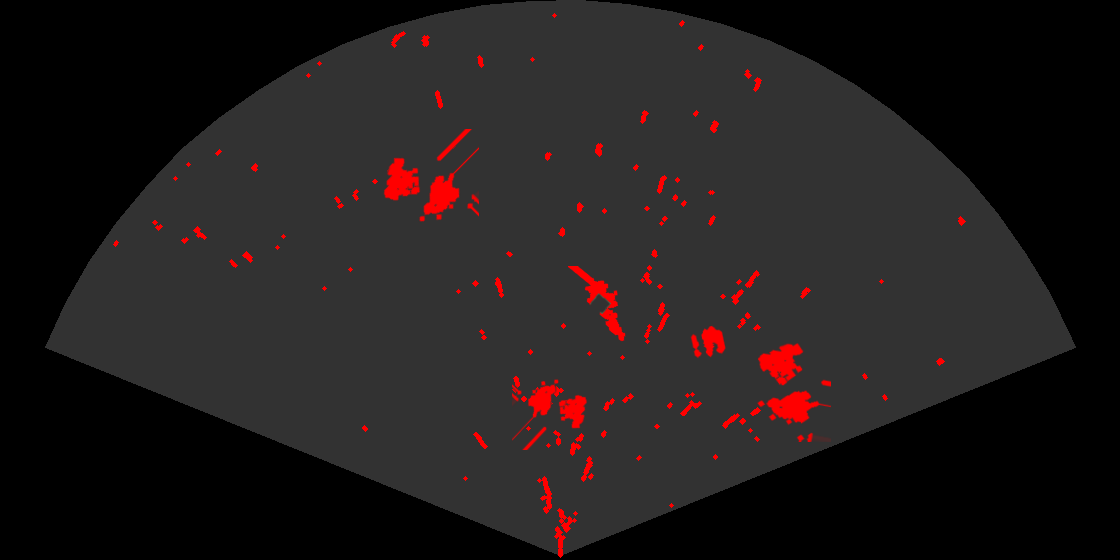ball: (689, 324, 727, 360)
cage: (382, 129, 479, 223), (756, 342, 831, 442), (512, 378, 589, 450)
frogman: (568, 266, 627, 343)
